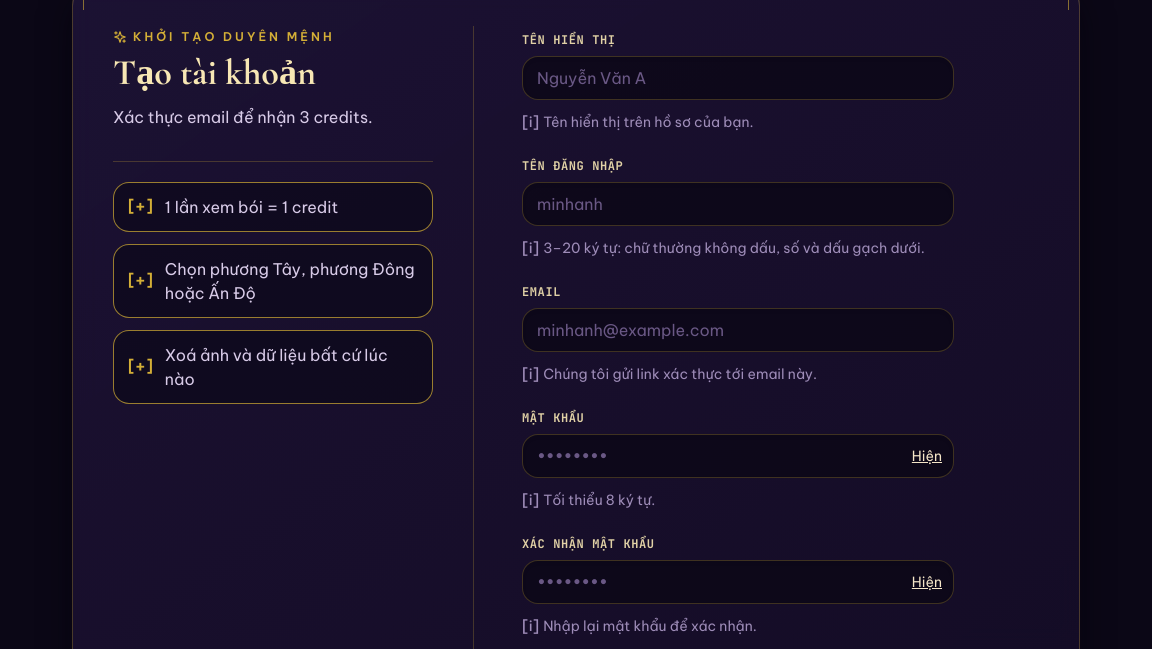
Test: RegisterPage (Stitch Screen 59bf8c4b91a04c18a0afbf3139812e0d) › should show error when terms checkbox is not checked
Type "Trần Văn B" into the field labelled "Tên hiển thị". click: point(738, 78)
box: [522,56,954,100]
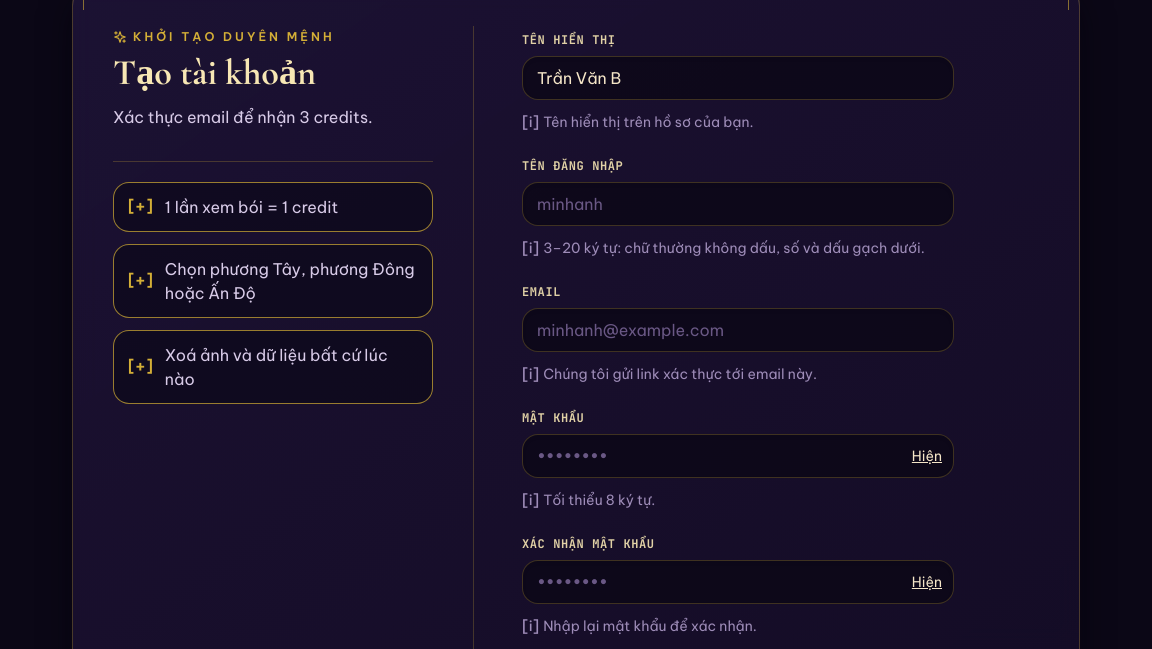
Type "tranvanb" into the field labelled "Tên đăng nhập". click: point(738, 204)
box: [522,182,954,226]
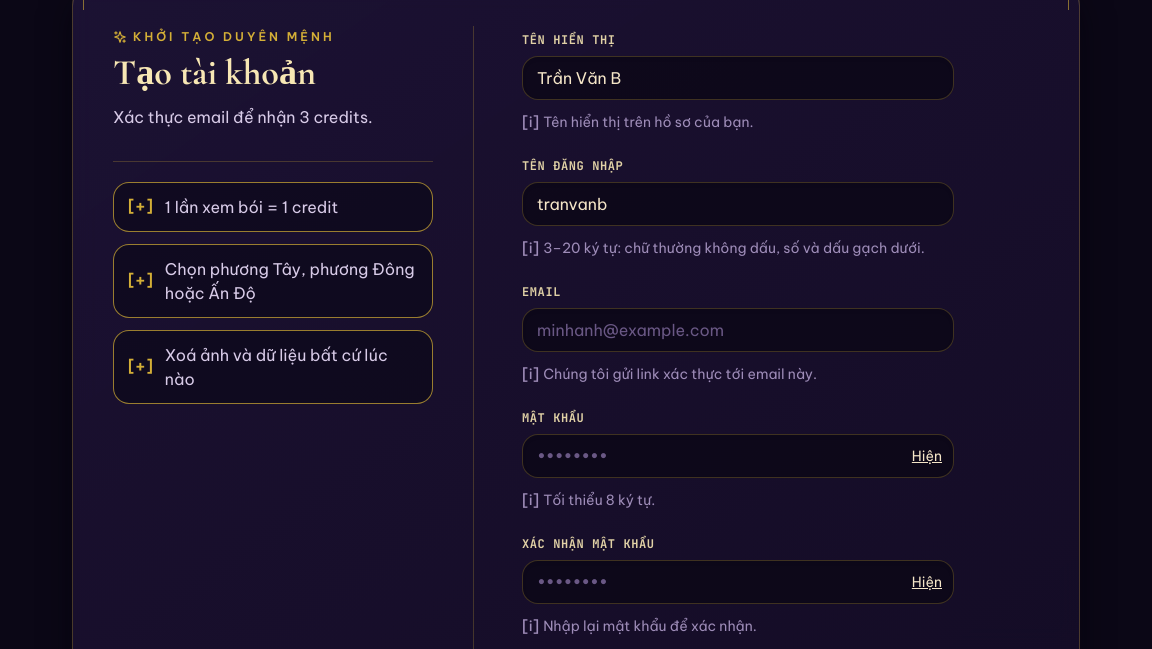
Type "tranvanb@example.com" into the field labelled "Email". click: point(738, 330)
box: [522,308,954,352]
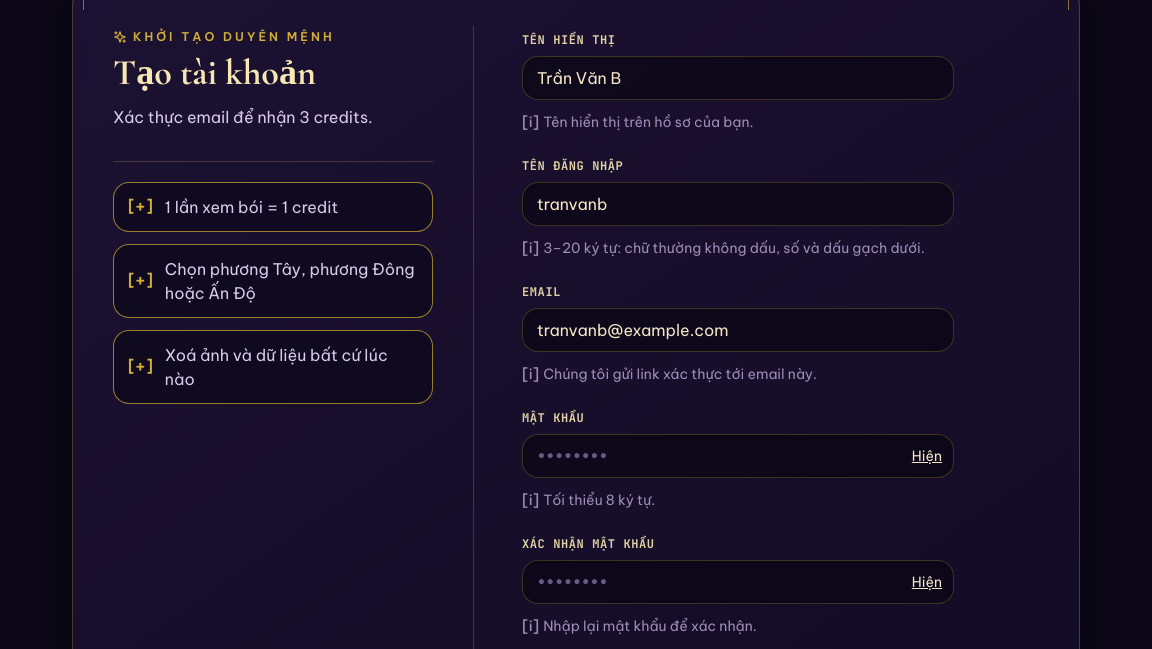
Type "BaoMat_987654" into the password field labelled "Mật khẩu". click: point(738, 456)
box: [522,434,954,478]
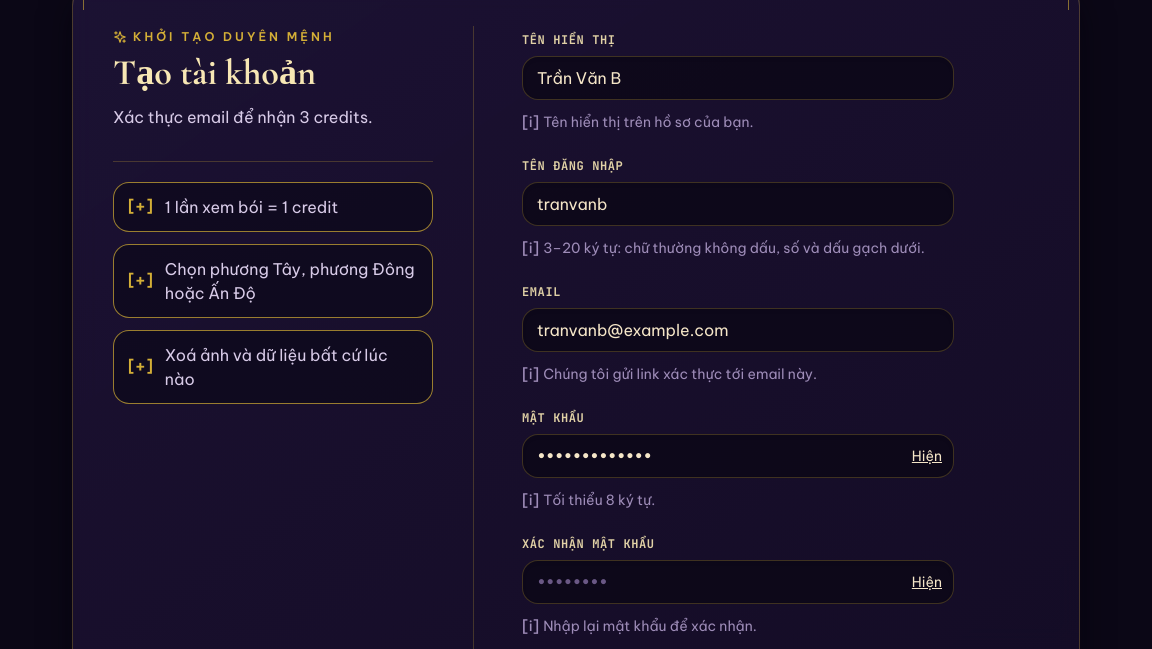
Type "BaoMat_987654" into the password field labelled "Xác nhận mật khẩu". click: point(738, 582)
box: [522,560,954,604]
(page scrolled)
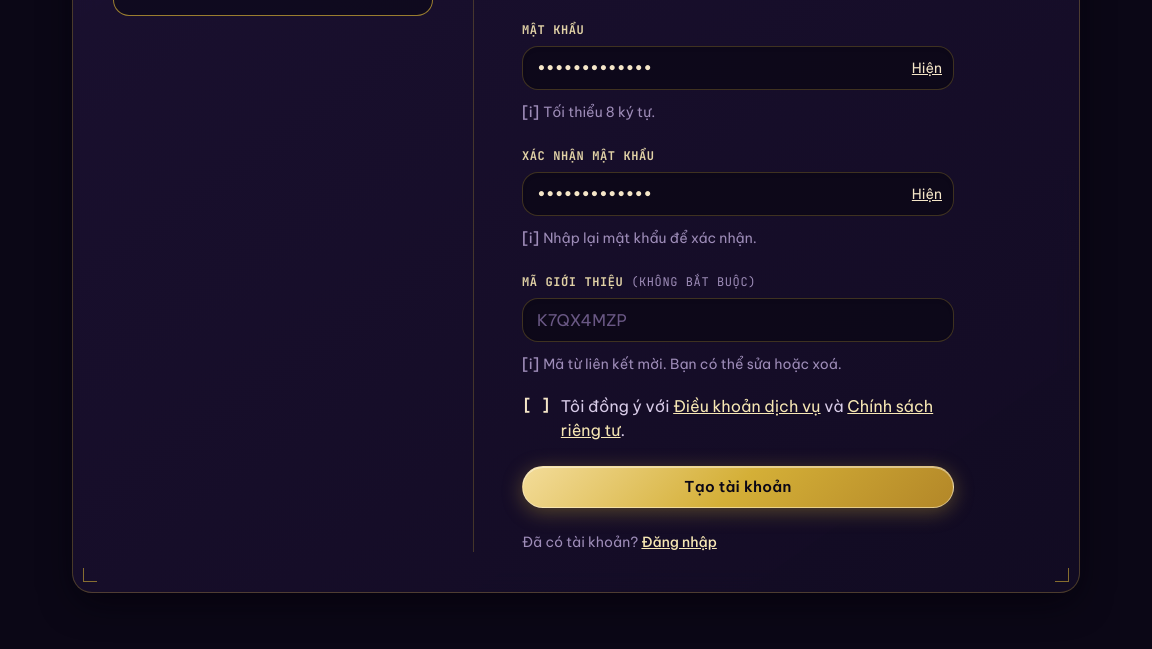
Click the button "Tạo tài khoản". click: point(738, 487)
box: [522,466,954,508]
(page scrolled)
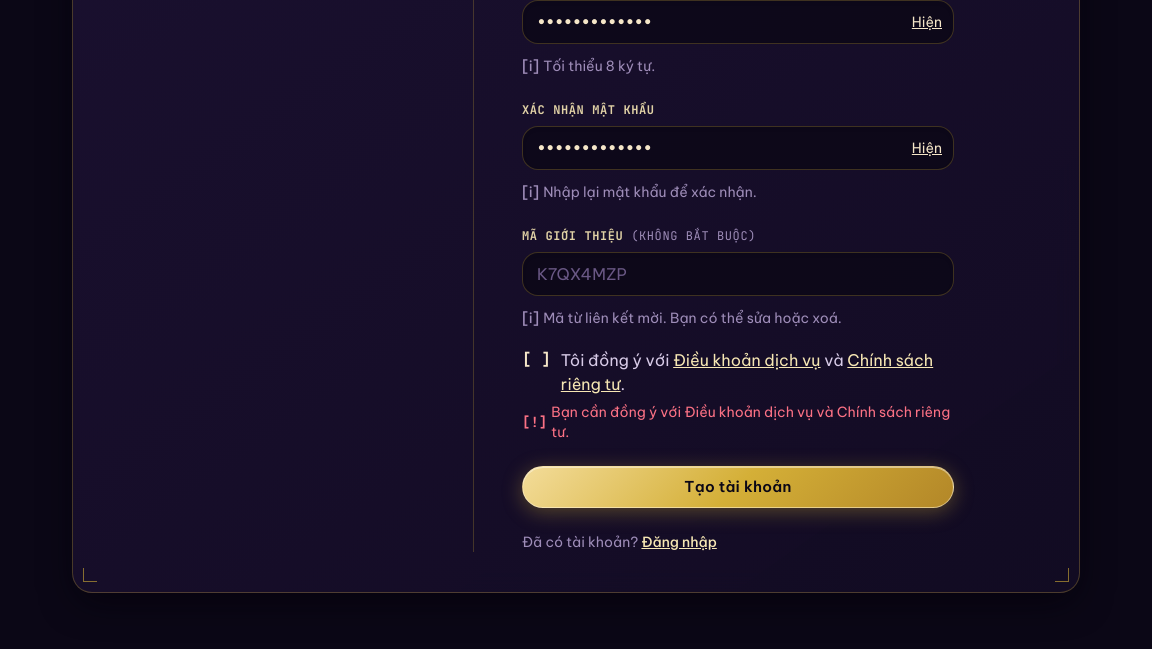
expect the text "Bạn cần đồng ý với Điều khoản dịch vụ và Chính sách riêng tư." is shown: met, box [551,402,954,442]
